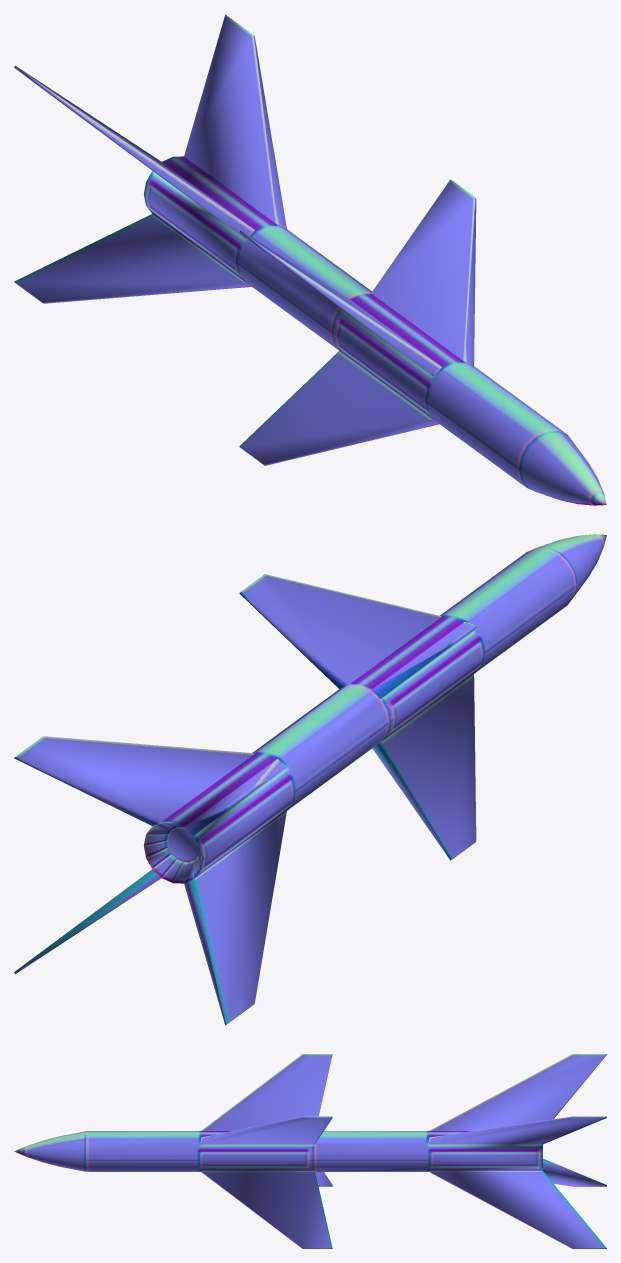
The model's file is Rocket.fbx.
3 renders of one model, top to bottom at view 1: azimuth 30°, elevation 25°; view 2: azimuth 150°, elevation 25°; view 3: azimuth 270°, elevation 25°, orthographic. The views are drawn at different scales.
Parts seen in each view (by area): view 1: Rocket; view 2: Rocket; view 3: Rocket.
Part boxes in pixels (x1=…): Rocket: x1=14, y1=14, x2=606, y2=505; Rocket: x1=14, y1=534, x2=606, y2=1025; Rocket: x1=14, y1=1054, x2=606, y2=1248.
Size of the model in its own units: 16.4 by 16.04 by 65.04.
